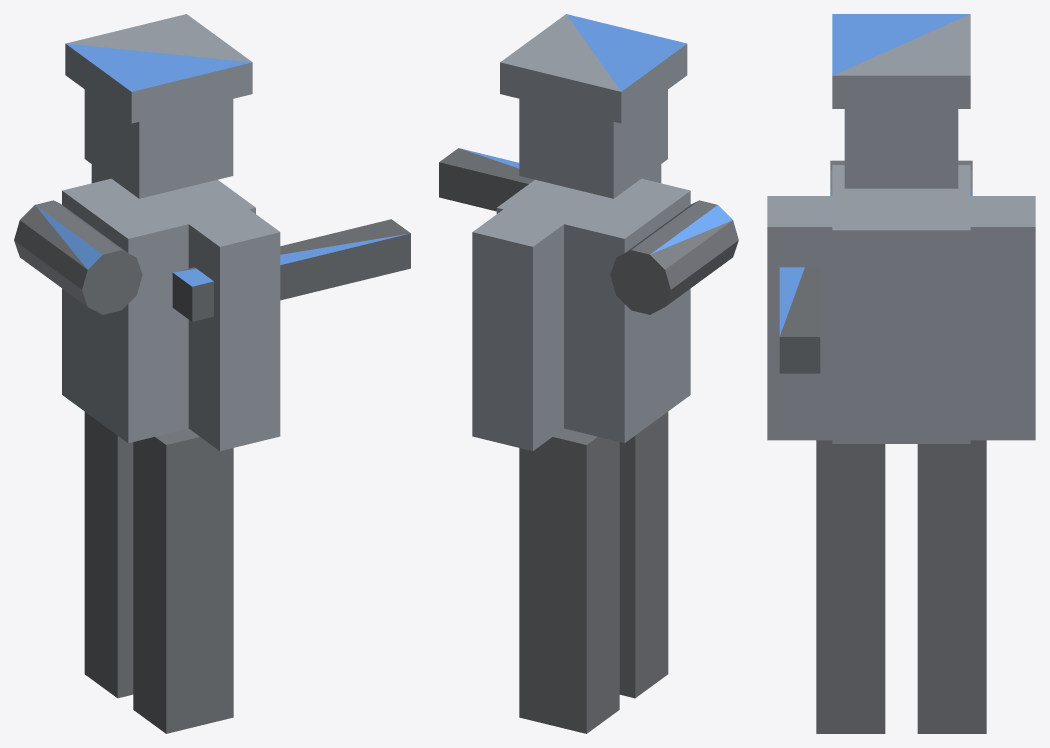
File: veyran_rifleman.glb
The picture shows the model from 3 angles, left to right: view 1: azimuth 30°, elevation 25°; view 2: azimuth 150°, elevation 25°; view 3: azimuth 270°, elevation 25°; orthographic projection. The views are drawn at different scales.
Visible parts, largest first — view 1: torso, leg_r, arm_r, head, leg_l; view 2: torso, leg_l, head, arm_l, leg_r, arm_r; view 3: torso, head, leg_l, leg_r, arm_l, arm_r.
Boxes of the visible parts, x1=… form: torso: x1=14, y1=178, x2=255, y2=443; leg_r: x1=133, y1=428, x2=233, y2=733; arm_r: x1=172, y1=209, x2=410, y2=450; head: x1=65, y1=14, x2=252, y2=198; leg_l: x1=84, y1=412, x2=133, y2=698; torso: x1=496, y1=178, x2=738, y2=443; leg_l: x1=519, y1=428, x2=619, y2=733; head: x1=500, y1=14, x2=687, y2=198; arm_l: x1=472, y1=209, x2=563, y2=450; leg_r: x1=619, y1=411, x2=668, y2=698; arm_r: x1=439, y1=148, x2=661, y2=211; torso: x1=830, y1=160, x2=972, y2=443; head: x1=832, y1=14, x2=970, y2=188; leg_l: x1=917, y1=440, x2=986, y2=733; leg_r: x1=816, y1=440, x2=885, y2=733; arm_l: x1=970, y1=196, x2=1035, y2=440; arm_r: x1=767, y1=196, x2=832, y2=440.
Size of the model in its own units: 0.905 by 1.82 by 0.66.
